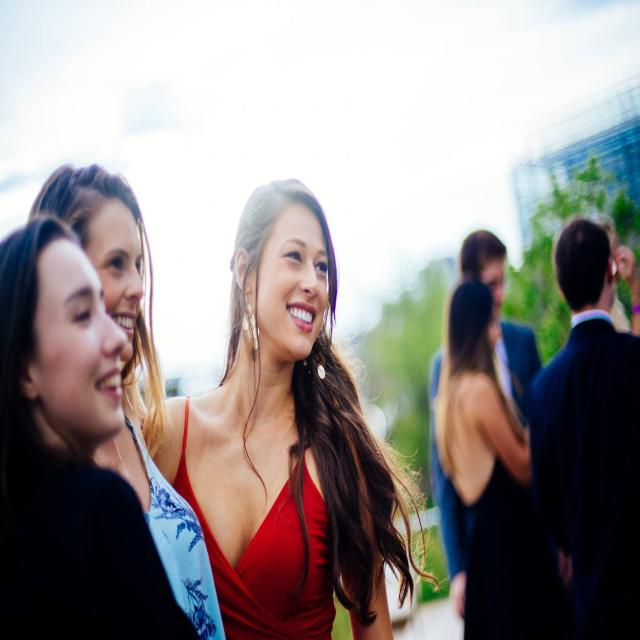body: (140, 176, 442, 639), (25, 160, 228, 640), (0, 208, 210, 640), (527, 211, 640, 640), (427, 228, 543, 624), (434, 280, 532, 639), (580, 207, 640, 336)
